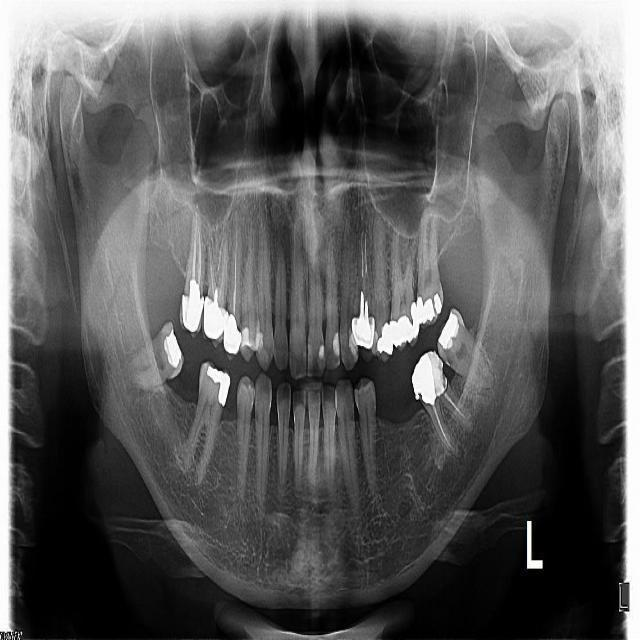Caries: (443, 354, 453, 364)
Crown: (200, 298, 227, 347), (352, 315, 376, 363), (179, 294, 204, 335), (223, 313, 242, 361)
Filling: (390, 300, 419, 347), (412, 354, 436, 406), (206, 367, 230, 407), (163, 328, 182, 367), (438, 312, 458, 348), (240, 329, 260, 364), (188, 276, 200, 324), (417, 297, 435, 326), (256, 331, 269, 369), (378, 323, 393, 355), (348, 330, 357, 358), (318, 344, 326, 372), (434, 294, 442, 313), (333, 332, 339, 355)
Missing teeth: (376, 386, 426, 424), (166, 362, 202, 407), (221, 381, 239, 420)
Root Canal Treatment: (432, 404, 455, 450), (443, 392, 466, 418), (232, 218, 237, 315), (218, 243, 226, 302), (196, 217, 202, 288), (192, 206, 197, 280), (209, 246, 215, 297), (217, 237, 223, 271), (365, 233, 368, 272), (362, 233, 363, 277)
